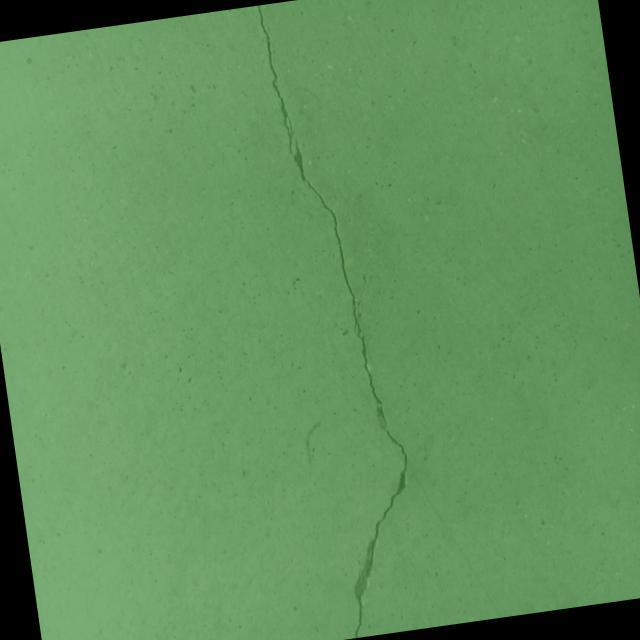crack: (256, 0, 441, 639)
